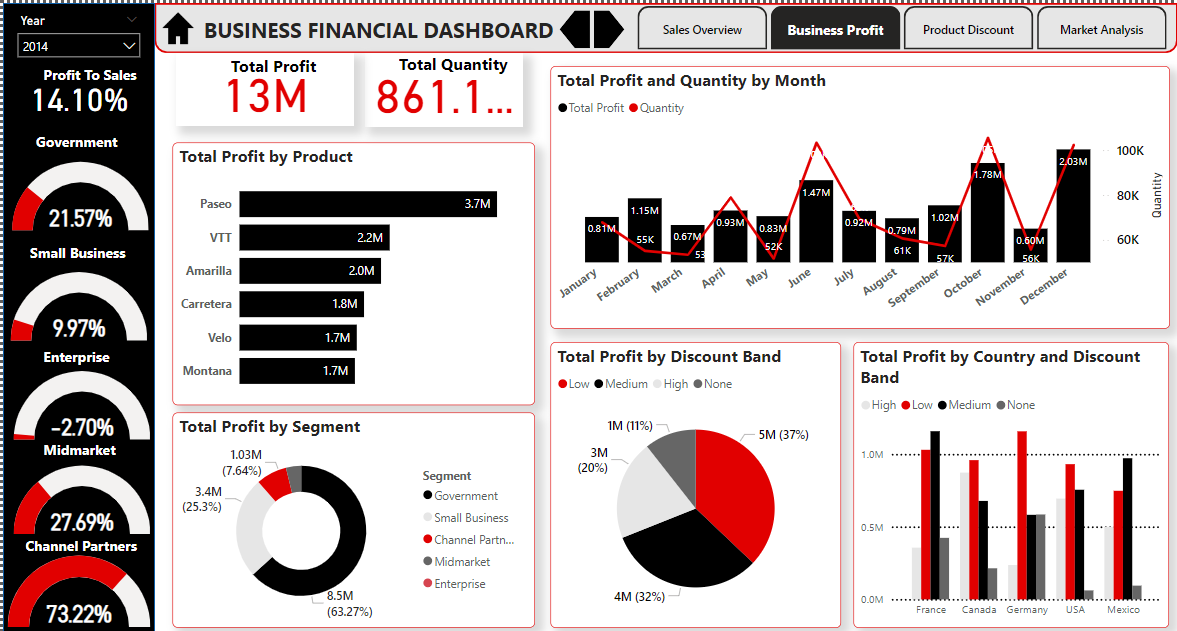

What the dashboard file says about the page in this screenshot:
{"tool":"powerbi","page":{"name":"Business Profit","canvas":[1351,728],"ordinal":1},"visuals":[{"type":"shape","box":[174.6,0,1176.3,57.6],"z":0},{"type":"shape","box":[0,0,174.6,728.8],"z":1000},{"type":"card","fields":{"Values":["MyMeasures.Total Profit"]},"box":[198.3,56.9,205.2,84.5],"z":3000},{"type":"clusteredBarChart","title":"Total Profit by Product","fields":{"Category":["financials.Product"],"Y":["MyMeasures.Total Profit"]},"box":[194.9,161,416.9,301.7],"z":4000},{"type":"donutChart","title":"Total Profit by Segment","fields":{"Category":["financials.Segment"],"Y":["MyMeasures.Total Profit"]},"box":[194.9,471.2,416.9,247.5],"z":5000},{"type":"card","fields":{"Values":["MyMeasures.Quantity"]},"box":[415.5,56.9,182.8,86.2],"z":6000},{"type":"card","fields":{"Values":["MyMeasures.ProfitToSales"]},"box":[0,72.4,174.1,70.7],"z":7000},{"type":"lineClusteredColumnComboChart","fields":{"Category":["financials.Date.Variation.Date Hierarchy.Month"],"Y":["MyMeasures.Total Profit"],"Y2":["MyMeasures.Quantity"]},"box":[628.8,72.9,711.9,301.7],"z":8000},{"type":"donutChart","title":"Total Profit by Discount Band","fields":{"Category":["financials.Discount Band"],"Y":["MyMeasures.Total Profit"]},"box":[628.8,389.8,333.9,328.8],"z":9000},{"type":"gauge","fields":{"Y":["MyMeasures.Govt PTS"]},"box":[5.2,160.3,167.2,122.4],"z":10000},{"type":"slicer","fields":{"Values":["financials.Date.Variation.Date Hierarchy.Year"]},"box":[6.9,6.9,160.3,89.7],"z":11000},{"type":"gauge","fields":{"Y":["MyMeasures.Small Biz Pts"]},"box":[3.4,289.7,167.2,117.2],"z":12000},{"type":"gauge","fields":{"Y":["MyMeasures.Ent PTS"]},"box":[6.9,406.9,167.2,110.3],"z":13000},{"type":"gauge","fields":{"Y":["MyMeasures.Mid Mkt PTS"]},"box":[6.9,517.2,167.2,106.9],"z":14000},{"type":"gauge","fields":{"Y":["MyMeasures.Channel Pts"]},"box":[0,624.1,174.1,103.4],"z":15000},{"type":"textbox","box":[41.7,65,125,43.3],"z":16000},{"type":"textbox","box":[26.7,270,140,45],"z":18000},{"type":"textbox","box":[41.4,389.7,112.1,43.1],"z":19000},{"type":"textbox","box":[41.4,496.6,112.1,43.1],"z":20000},{"type":"textbox","box":[20.7,606.9,158.6,43.1],"z":21000},{"type":"clusteredColumnChart","fields":{"Category":["financials.Country"],"Y":["MyMeasures.Total Profit"],"Series":["financials.Discount Band"]},"box":[978,389.8,362.7,328.8],"z":22000},{"type":"textbox","box":[256.7,53.3,146.7,36.7],"z":23000},{"type":"textbox","box":[450,51.7,148.3,43.1],"z":24000},{"type":"textbox","box":[33.3,143.3,133.3,33.3],"z":24500},{"type":"textbox","box":[225,8.3,443.3,41.7],"z":24501},{"type":"pageNavigator","box":[730,3.3,610,50],"z":24502},{"type":"image","box":[178.3,0,46.7,58.3],"z":24503},{"type":"shape","box":[680,8.3,35,43.3],"z":24504},{"type":"shape","box":[640,8.3,35,43.3],"z":24505}]}

Visuals, with their boxes in screenshot pixels (x1, y1, x2, y2), scaled from the page's 1351x728 canvas onto the 1177x631 screenshot:
shape: Rect(152, 0, 1176, 50)
shape: Rect(0, 0, 152, 630)
card - MyMeasures.Total Profit: Rect(173, 49, 352, 123)
"Total Profit by Product" clusteredBarChart: Rect(170, 140, 533, 401)
"Total Profit by Segment" donutChart: Rect(170, 408, 533, 623)
card - MyMeasures.Quantity: Rect(362, 49, 521, 124)
card - MyMeasures.ProfitToSales: Rect(0, 63, 152, 124)
lineClusteredColumnComboChart - financials.Date.Variation.Date Hierarchy.Month x MyMeasures.Total Profit: Rect(548, 63, 1168, 325)
"Total Profit by Discount Band" donutChart: Rect(548, 338, 839, 623)
gauge - MyMeasures.Govt PTS: Rect(5, 139, 150, 245)
slicer - financials.Date.Variation.Date Hierarchy.Year: Rect(6, 6, 146, 84)
gauge - MyMeasures.Small Biz Pts: Rect(3, 251, 149, 353)
gauge - MyMeasures.Ent PTS: Rect(6, 353, 152, 448)
gauge - MyMeasures.Mid Mkt PTS: Rect(6, 448, 152, 541)
gauge - MyMeasures.Channel Pts: Rect(0, 541, 152, 630)
textbox: Rect(36, 56, 145, 94)
textbox: Rect(23, 234, 145, 273)
textbox: Rect(36, 338, 134, 375)
textbox: Rect(36, 430, 134, 468)
textbox: Rect(18, 526, 156, 563)
clusteredColumnChart - financials.Country x MyMeasures.Total Profit: Rect(852, 338, 1168, 623)
textbox: Rect(224, 46, 351, 78)
textbox: Rect(392, 45, 521, 82)
textbox: Rect(29, 124, 145, 153)
textbox: Rect(196, 7, 582, 43)
pageNavigator: Rect(636, 3, 1167, 46)
image: Rect(155, 0, 196, 51)
shape: Rect(592, 7, 623, 45)
shape: Rect(558, 7, 588, 45)
